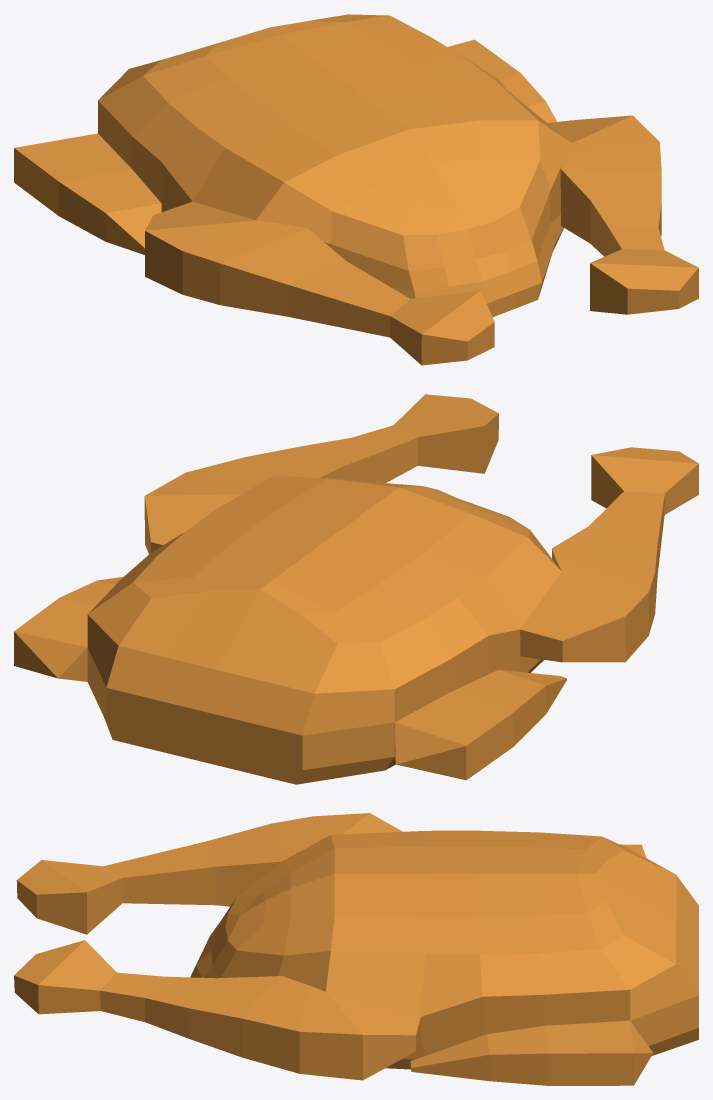
The model's file is chicken.fbx.
The picture shows the model from 3 angles, top to bottom: view 1: azimuth 30°, elevation 25°; view 2: azimuth 150°, elevation 25°; view 3: azimuth 270°, elevation 25°; orthographic projection. The views are drawn at different scales.
Visible parts, largest first — view 1: Roasty Toasty; view 2: Roasty Toasty; view 3: Roasty Toasty.
Part boxes in pixels (x1=…): Roasty Toasty: x1=14, y1=14, x2=698, y2=365; Roasty Toasty: x1=14, y1=394, x2=698, y2=784; Roasty Toasty: x1=14, y1=813, x2=698, y2=1085.
Bounding box in the file's own units: 313 × 81.72 × 408.
